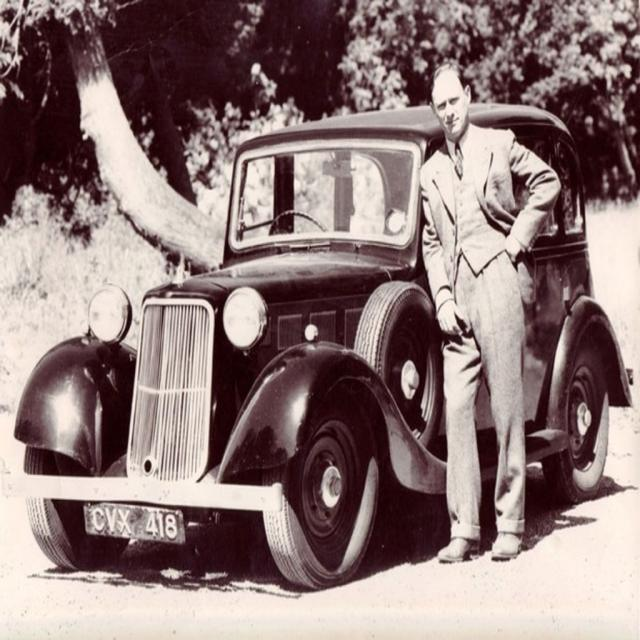car: (22, 97, 586, 596)
